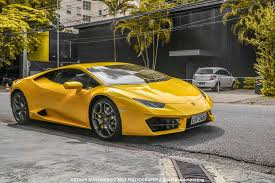Lamborghini: (14, 64, 206, 136)
